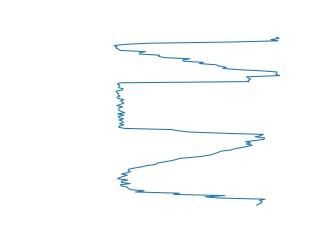distributaryChannelFill: (110, 72, 269, 140)
mouthBar: (112, 33, 283, 77)
underwaterDistributaryChannel: (112, 137, 267, 209)
